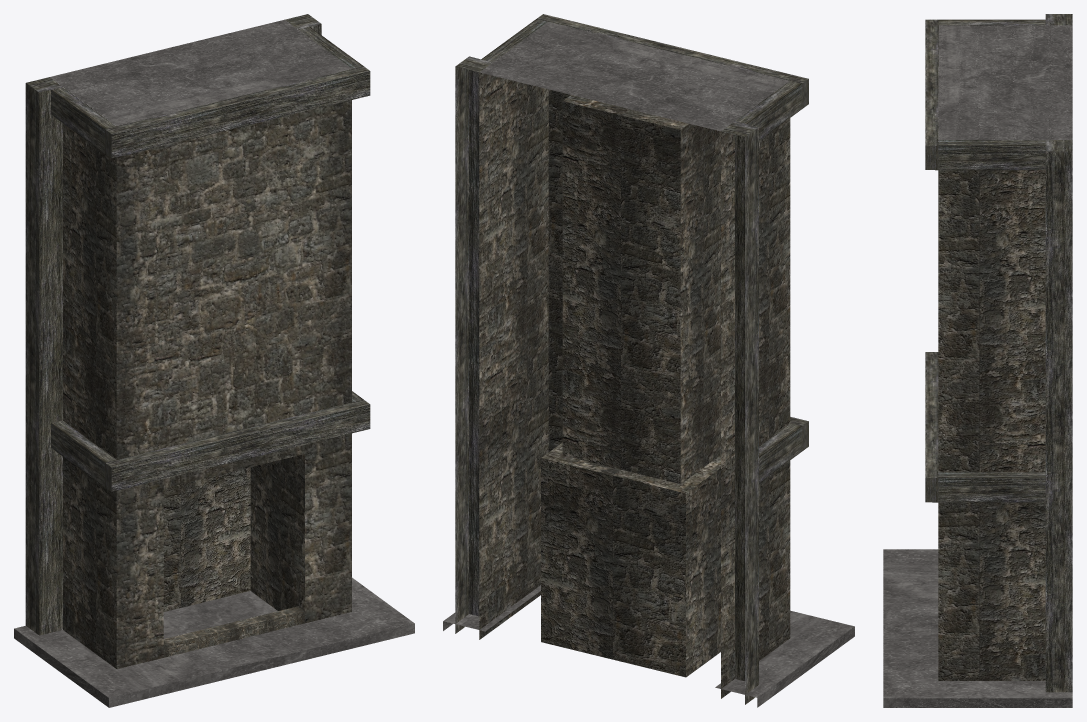
The model's file is CK Fireplace.dae.
The picture shows the model from 3 angles, left to right: view 1: azimuth 30°, elevation 25°; view 2: azimuth 150°, elevation 25°; view 3: azimuth 270°, elevation 25°; orthographic projection. The views are drawn at different scales.
Parts seen in each view (by area): view 1: Cube; view 2: Cube; view 3: Cube.
Boxes of the visible parts, x1,y1,x2,y2 form: Cube: (14, 14, 414, 707); Cube: (443, 14, 854, 707); Cube: (883, 14, 1072, 707).
Size of the model in its own units: 2.6 by 1.4 by 4.49.
Materials: 4 (4 with a texture image).
